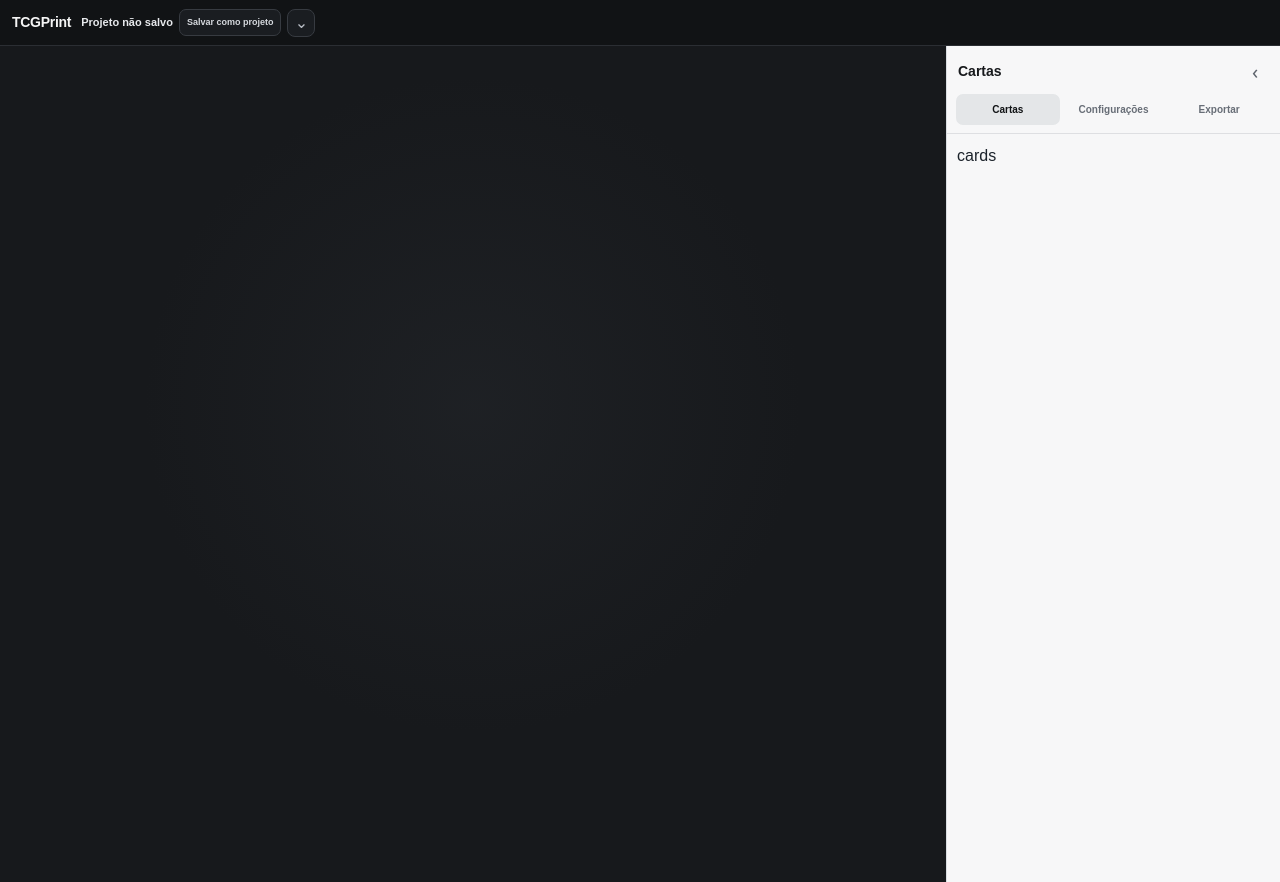
Test case: Project header lifecycle › starts a clean Project from a populated session and never autosaves the old snapshot into it
This screenshot has width=1280, height=882.
Click the tab "Configurações" at x=1114, y=110, box [1062,94,1165,125]
(page scrolled)
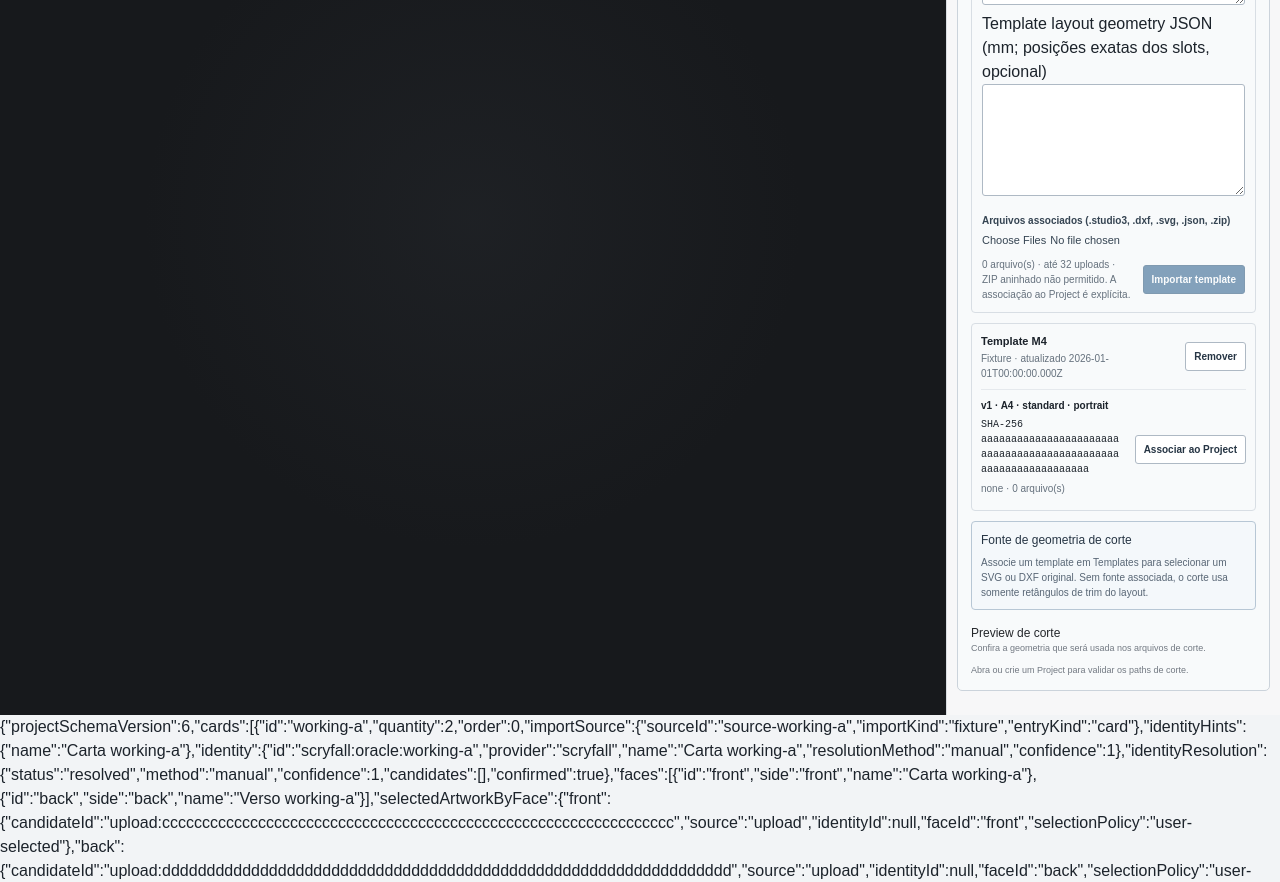
Click the button "Associar ao Project" at x=1190, y=450, box [1135,435,1246,464]
(page scrolled)
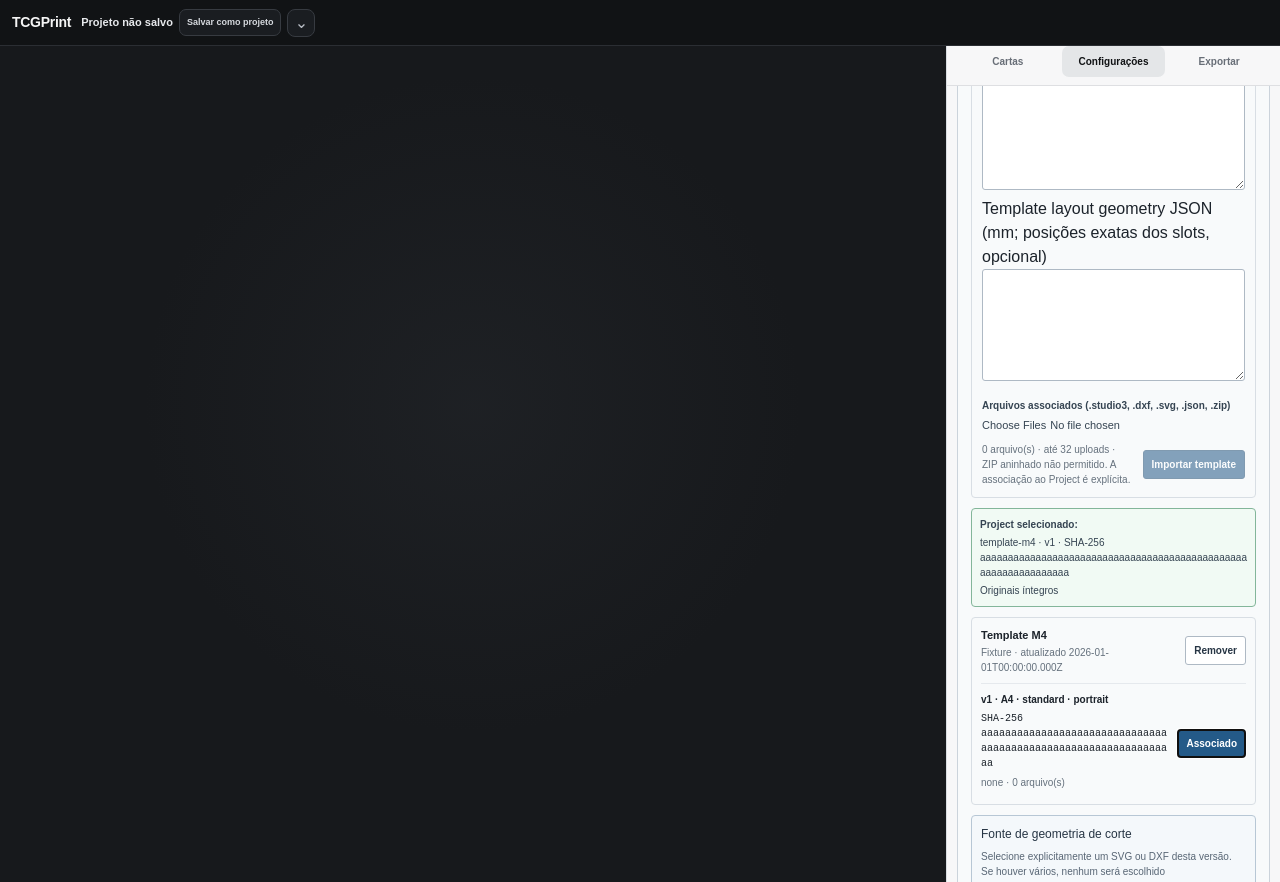
Result: the button "Associado" is pressed at [1177,729,1246,758]
Click the button "Salvar como projeto" at x=230, y=22, box [179,9,281,36]
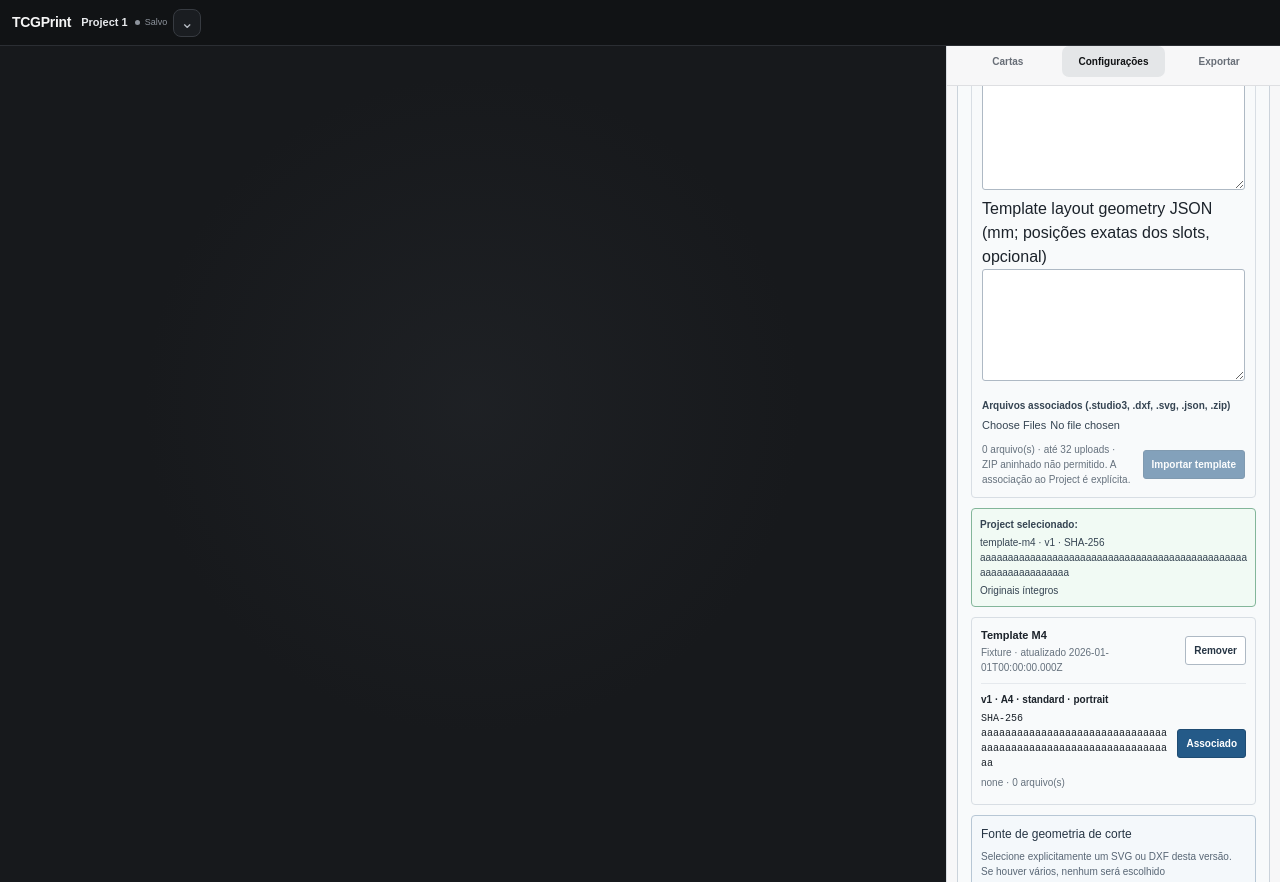
Expected: the message named "Estado do salvamento" reads "Salvo", [145,17,167,27]
Click the button named "Abrir menu do Project" at x=187, y=22, box [173,8,201,36]
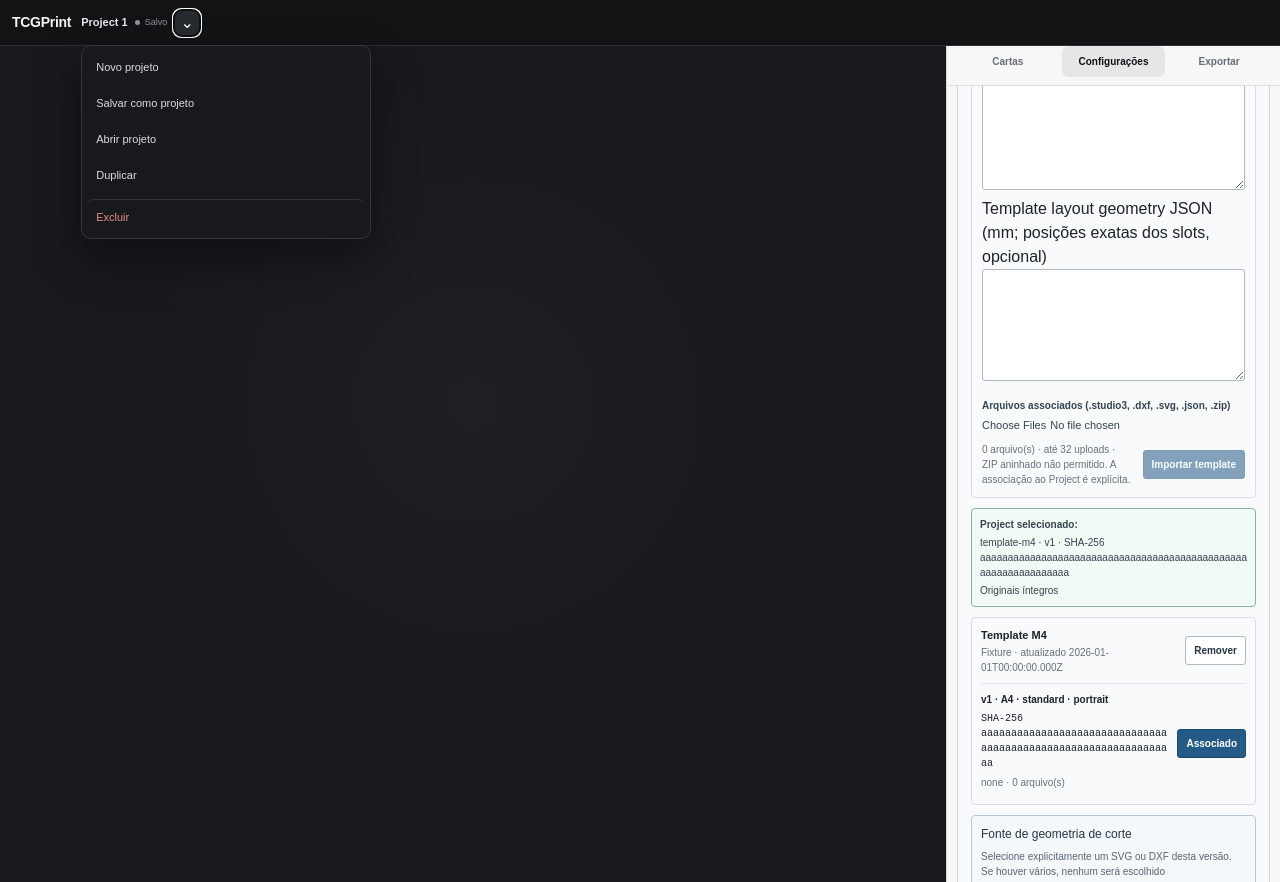
Click the button "Novo projeto" at x=127, y=67, box [87,50,365,84]
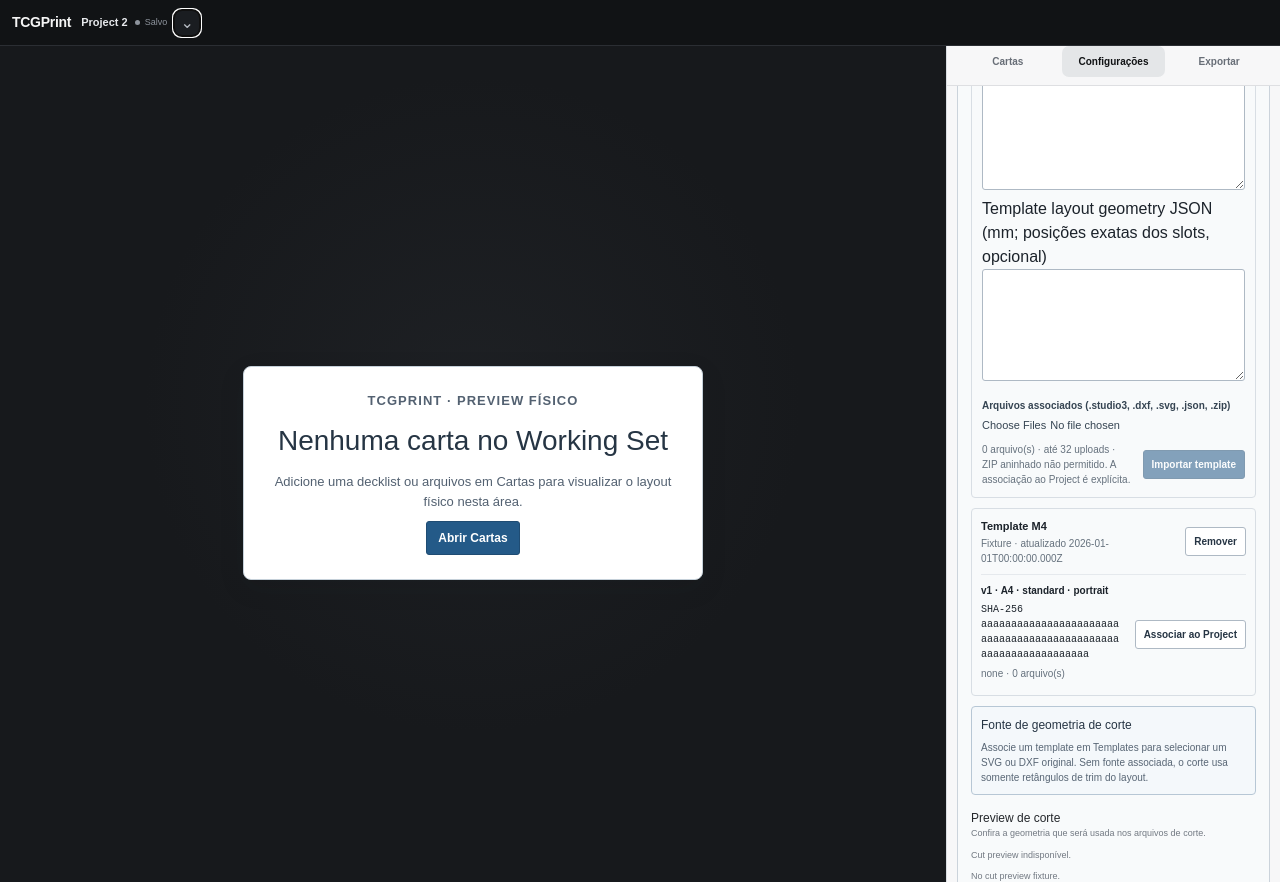
Expected: the message named "Estado do salvamento" reads "Salvo", [145,17,167,27]
Result: the text "Project 2" is shown at [81,14,128,31]
Result: the text "Project selecionado:" is gone
Click the button named "Abrir menu do Project" at x=187, y=22, box [173,8,201,36]
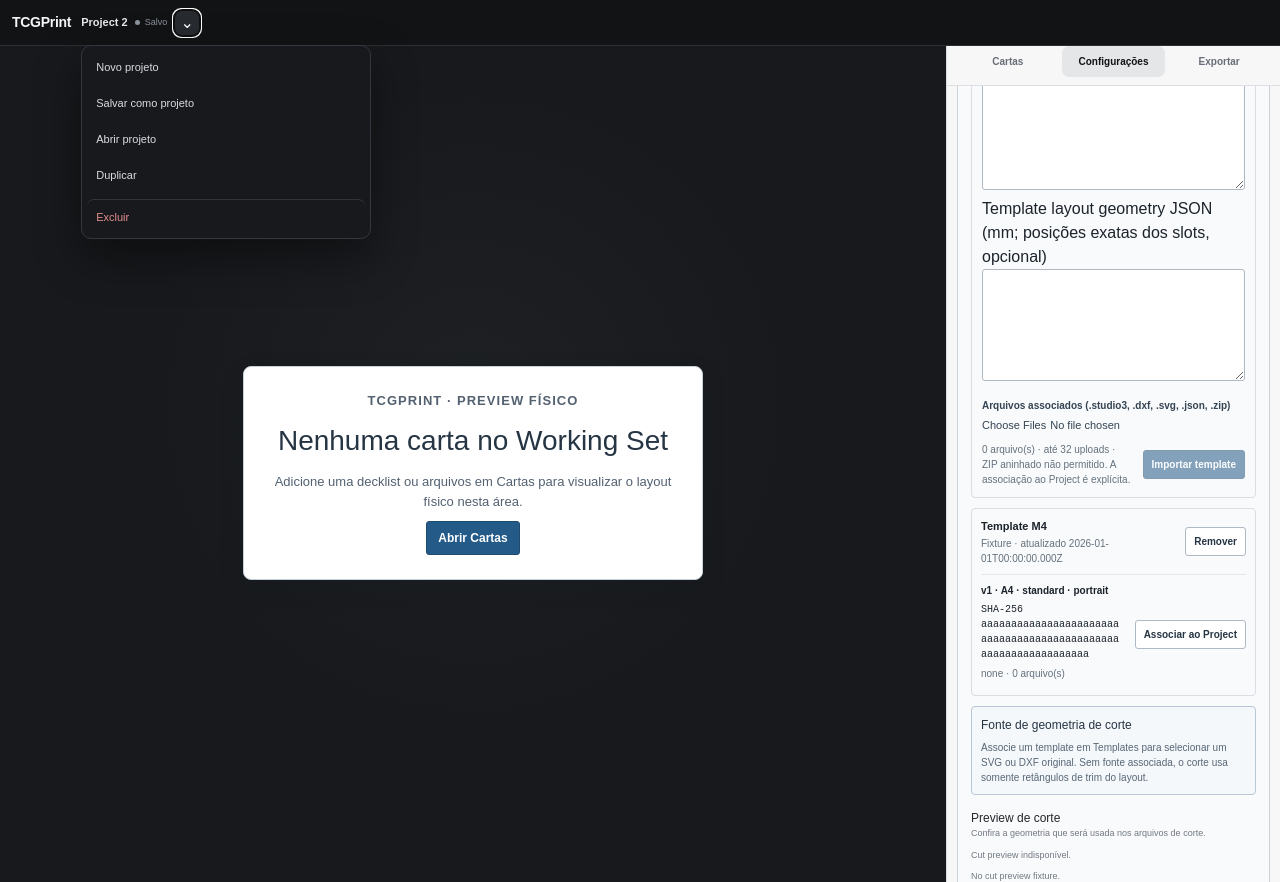
Result: the button "Duplicar" is shown at [87,158,365,192]
Result: the button "Excluir" is shown at [87,198,365,232]
